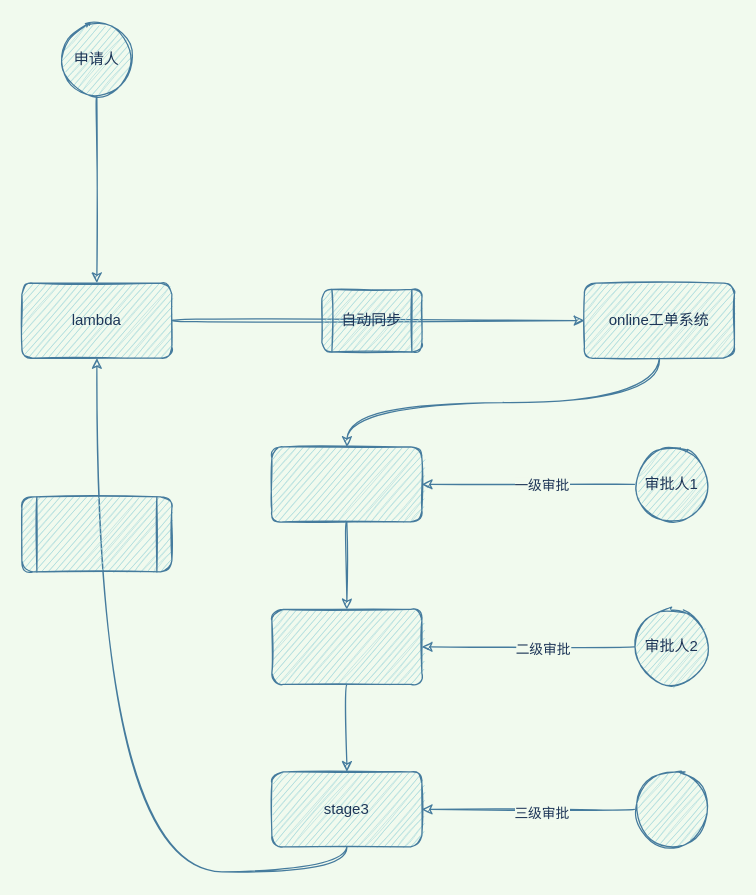
The diagram is 756 pixels wide and 895 high, and some of its shapes have lost their labels. Here are the shapes that lost their labels. From the top down, the centre of each, then its label:
At (x=346, y=484): "stage1".
At (x=96, y=534): "自动执行".
At (x=346, y=646): "stage2".
At (x=671, y=809): "审批人3".
